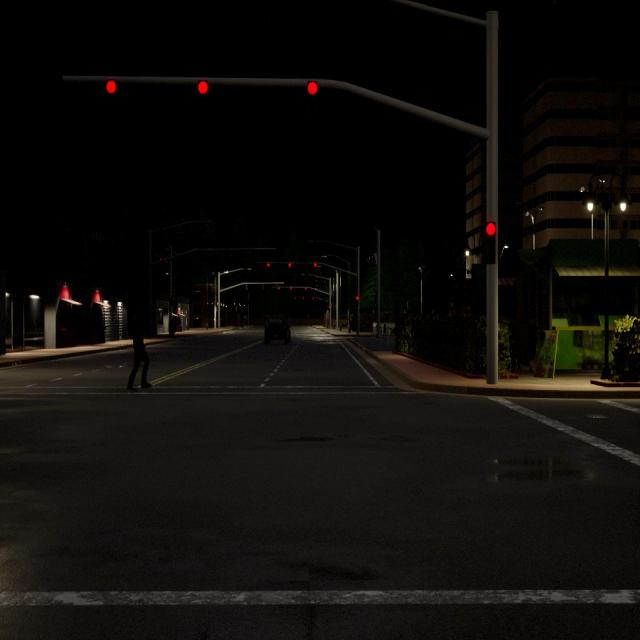Pedestrian: (127, 311, 151, 391)
Vehicle: (264, 318, 291, 344)
traffic_light: (480, 221, 496, 264), (106, 79, 117, 95), (308, 80, 318, 96), (198, 80, 208, 94), (355, 296, 359, 301), (288, 262, 292, 267), (314, 262, 318, 267), (267, 262, 270, 267), (328, 305, 331, 309), (304, 286, 307, 290), (278, 286, 280, 290), (290, 287, 292, 290), (312, 297, 314, 299), (302, 297, 304, 299), (294, 297, 296, 299)
